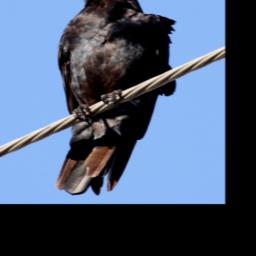Crow: (53, 0, 177, 196)
